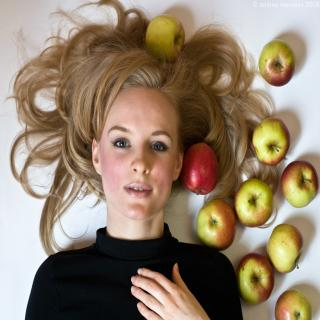Apple: (196, 199, 243, 253), (180, 143, 220, 196), (237, 253, 276, 306), (145, 14, 185, 64), (257, 40, 298, 88), (234, 179, 274, 228), (266, 224, 304, 274), (252, 118, 292, 165), (281, 160, 319, 208), (275, 288, 313, 320)
